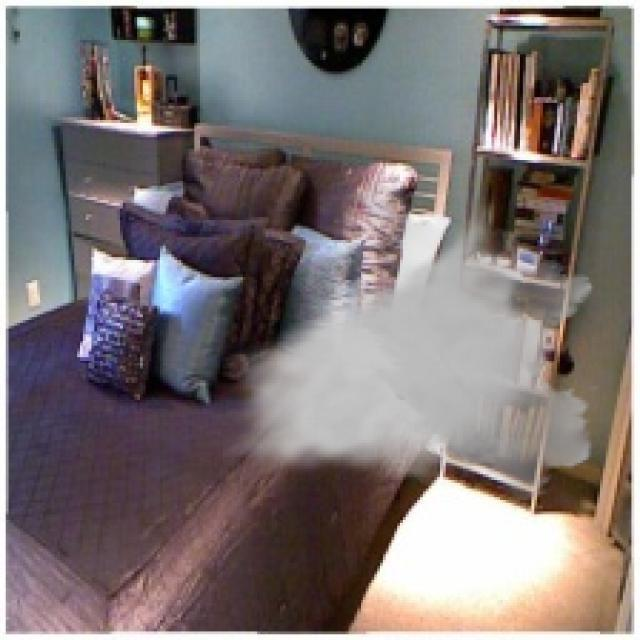Smoke: (223, 168, 603, 512)
